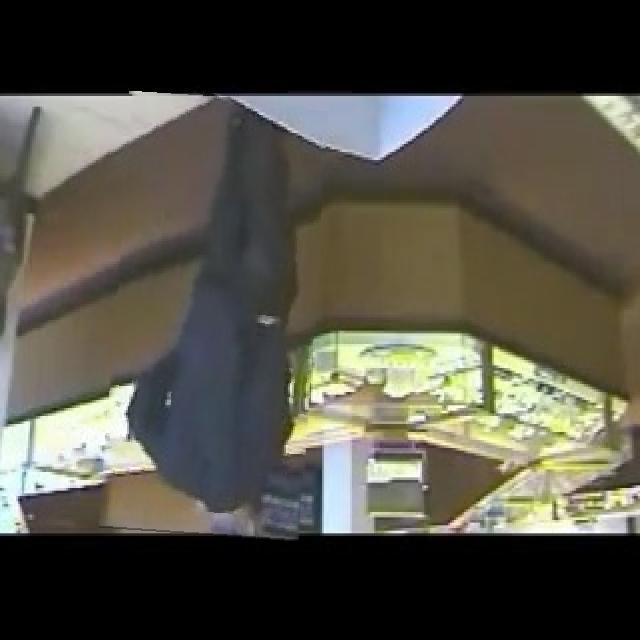Normal: (107, 94, 321, 538)
